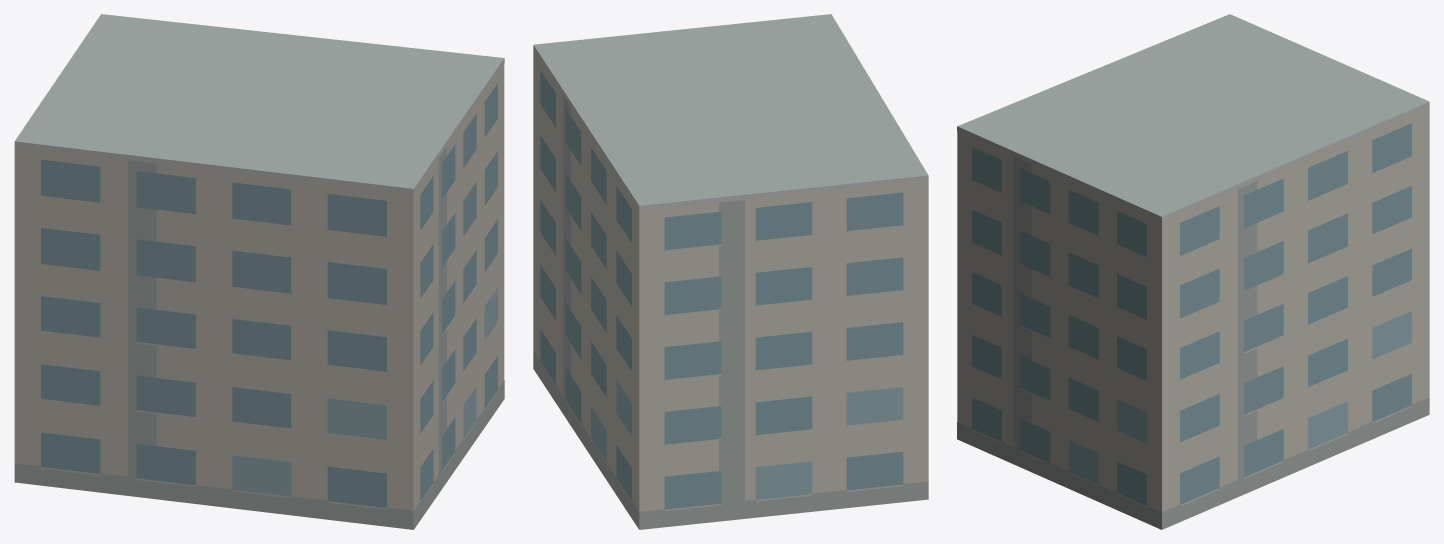
File: survey-upis-32770711.glb
3 views of the same model, side by side, from view 1: azimuth 30°, elevation 25°; view 2: azimuth 150°, elevation 25°; view 3: azimuth 270°, elevation 25° (orthographic). The views are drawn at different scales.
Visible parts, largest first — view 1: survey-upis-32770711.tmp; view 2: survey-upis-32770711.tmp; view 3: survey-upis-32770711.tmp.
Part boxes in pixels (left/top/right/bottom): survey-upis-32770711.tmp: left=14, top=14, right=504, bottom=529; survey-upis-32770711.tmp: left=533, top=14, right=928, bottom=529; survey-upis-32770711.tmp: left=957, top=14, right=1429, bottom=529.
Size of the model in its own units: 20.86 by 15 by 20.53.
